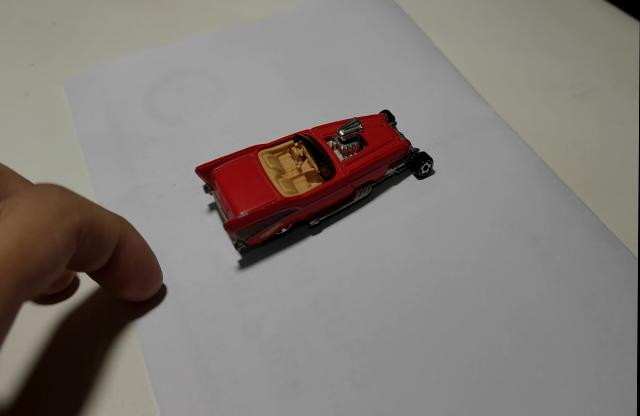03_V8: (195, 111, 435, 272)
